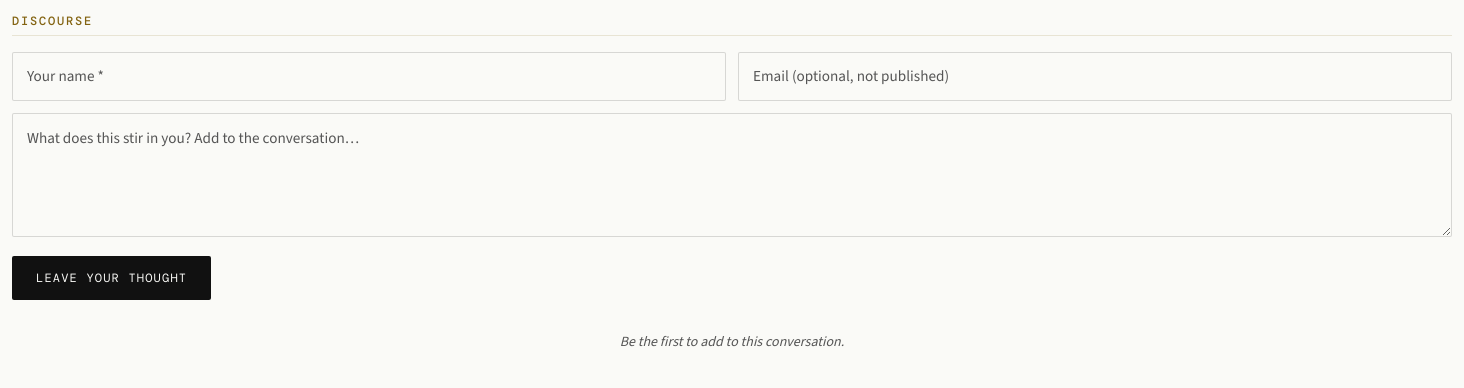
Test: PostComments › rejects a malformed email but accepts an empty one
The width and height of the screenshot is (1464, 388).
Type "Ada" into the field labelled "Your name *". click: (369, 76)
box: [12,52,726,101]
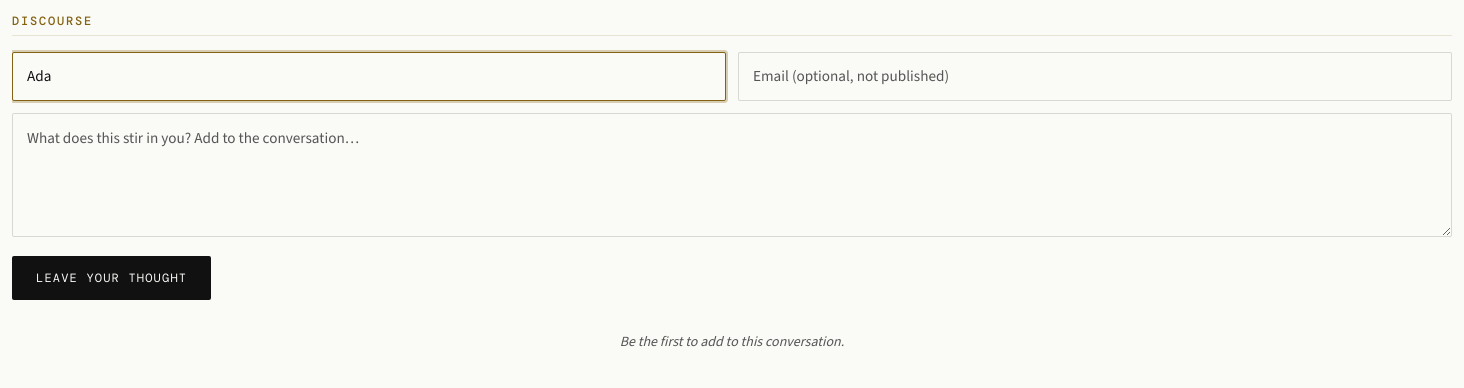
Type "nope" into the field labelled "Email (optional, not published)". click: (1095, 76)
box: [738,52,1452,101]
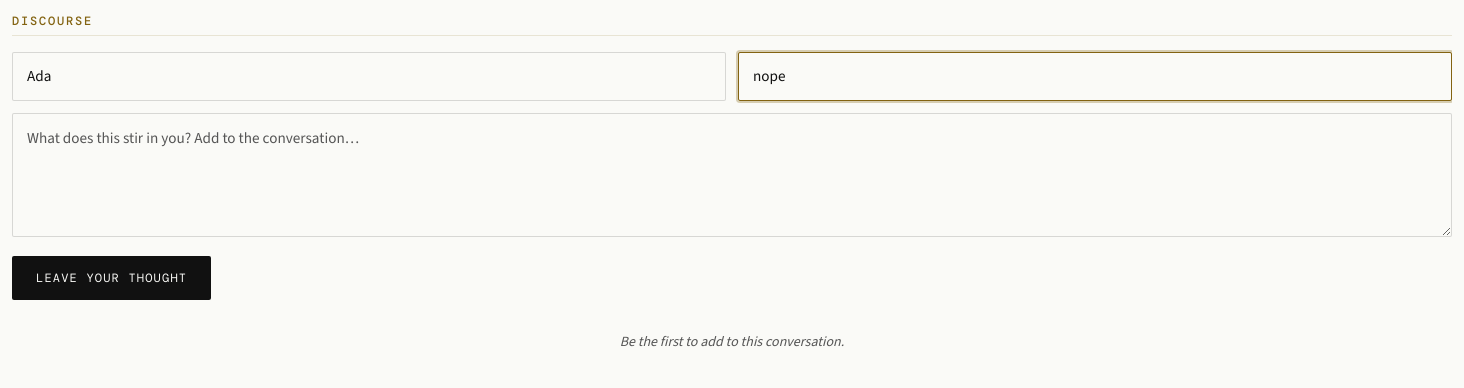
Type "Lovely essay." into the text box named "your thought". click: (732, 175)
box: [12,113,1452,238]
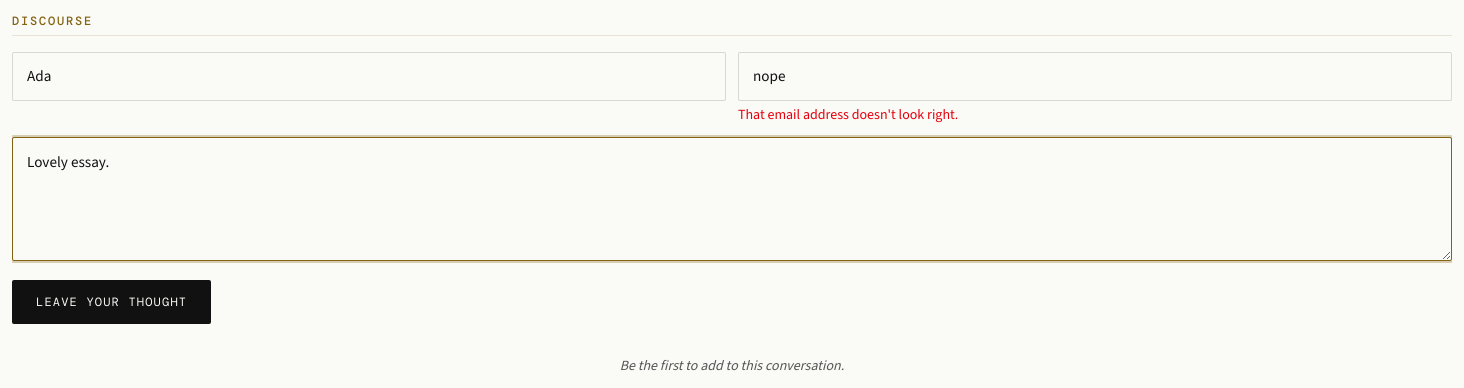
Click the button "Leave your thought". click: click(112, 302)
box: [12,280,211,324]
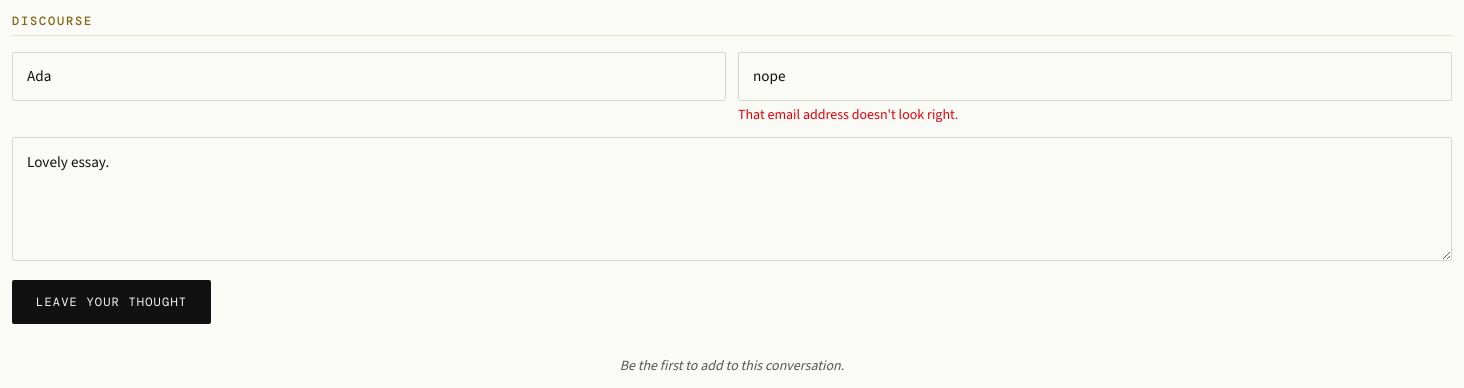
Check: the text "That email address doesn't look right." is shown, box [738,105,958,124]
Clear the 2nd field named "Email". click: (1095, 76)
box: [738,52,1452,101]
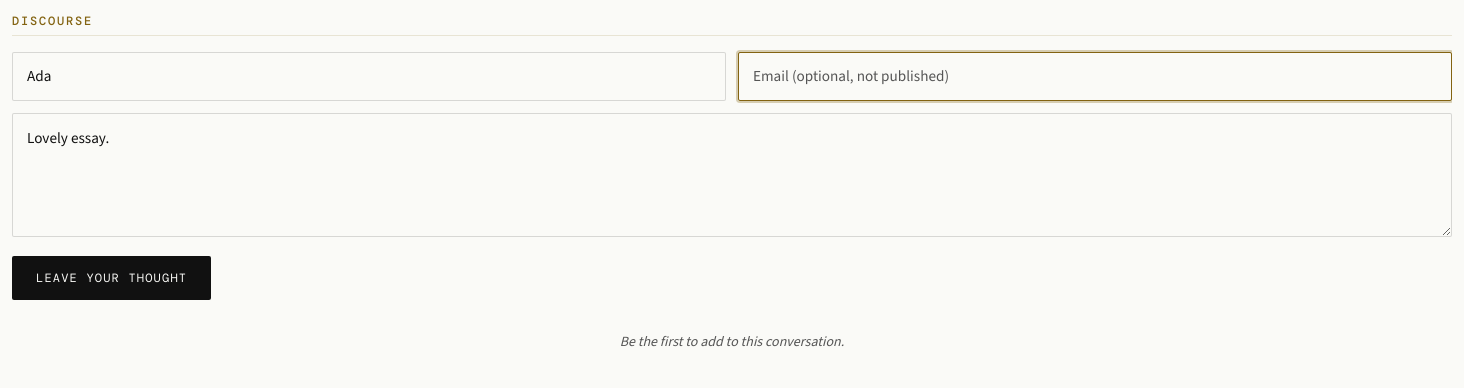
Click the button "Leave your thought". click: click(112, 278)
box: [12,256,211,300]
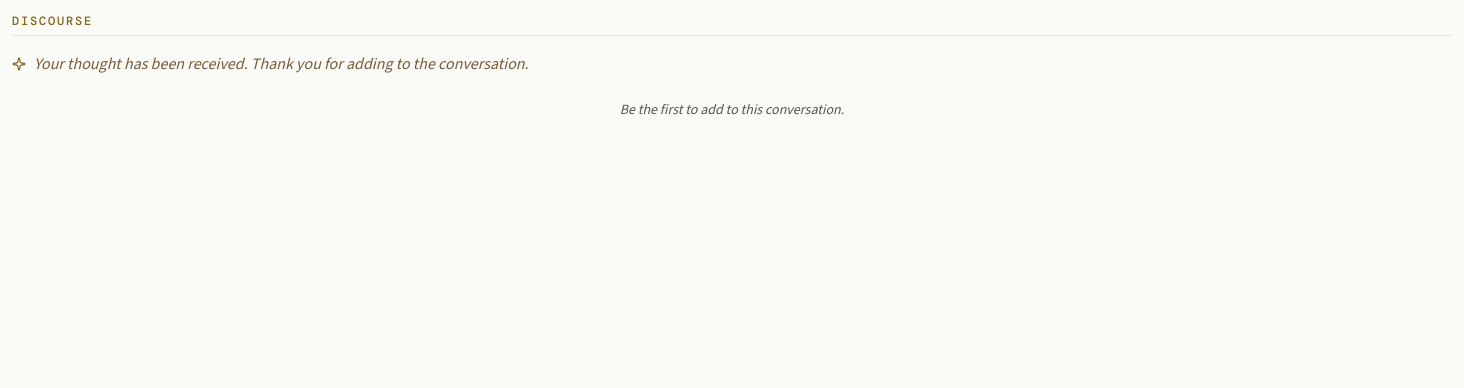
Check: the message shows "Your thought has been received.", box [34,53,529,74]
